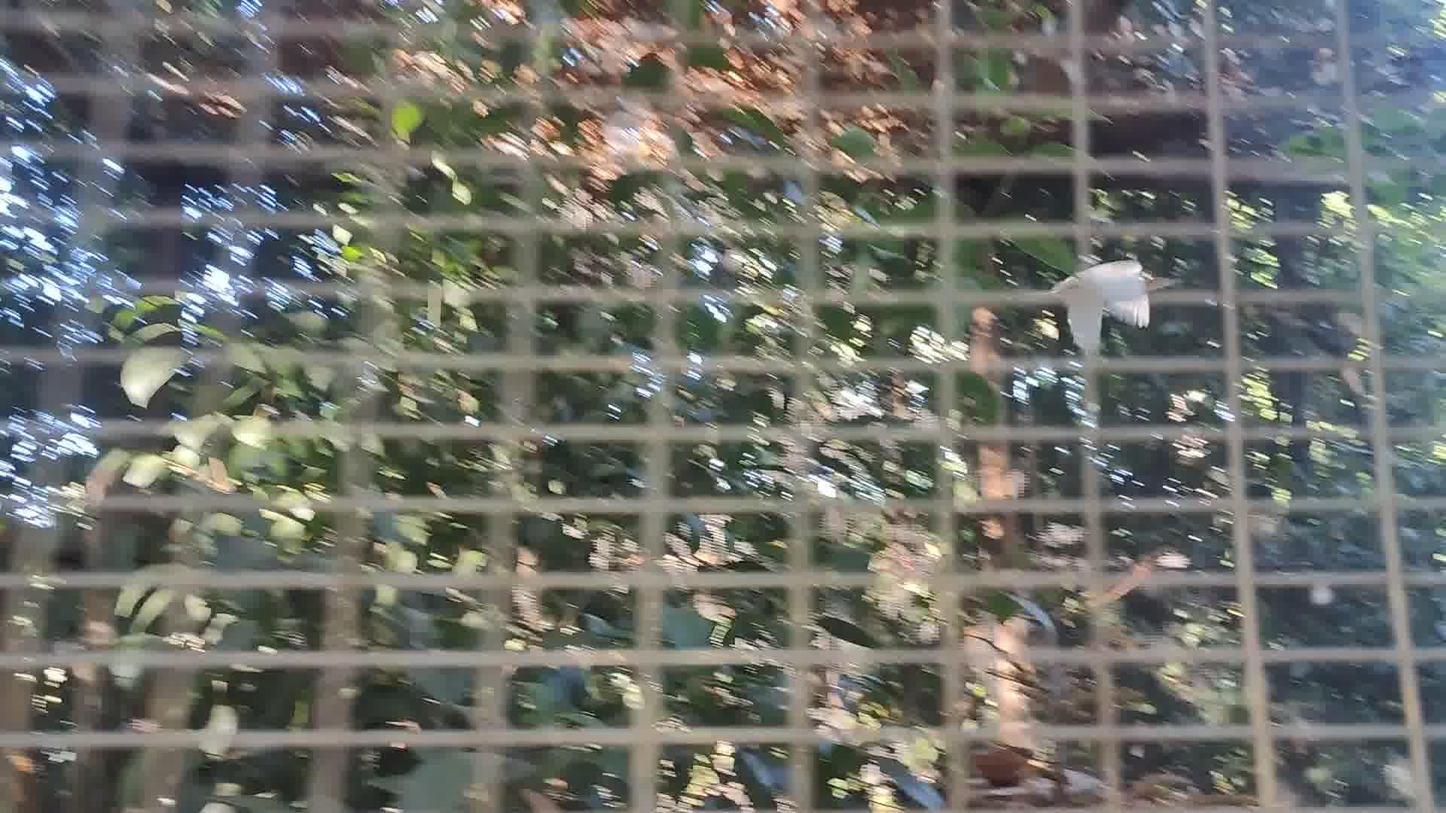apple: (1047, 259, 1155, 350)
